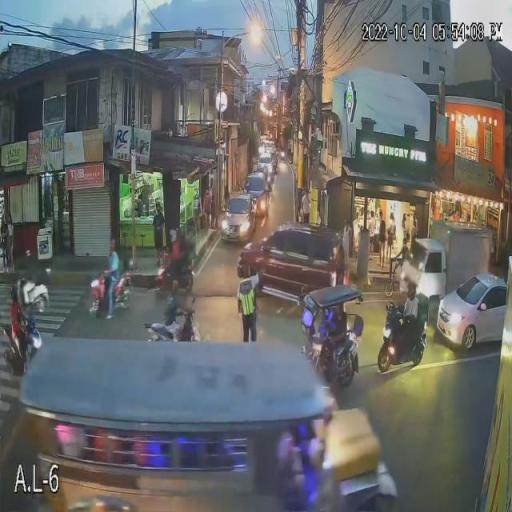helmet: (404, 282, 421, 302), (9, 288, 20, 308), (167, 230, 179, 244)
motorcycle: (376, 300, 428, 374), (6, 304, 44, 374), (143, 307, 202, 343), (87, 270, 132, 316), (11, 275, 50, 318), (152, 261, 193, 292)
rider: (393, 280, 424, 343), (160, 279, 190, 341), (6, 300, 31, 360), (103, 242, 121, 318), (21, 256, 42, 311), (166, 229, 187, 280)
